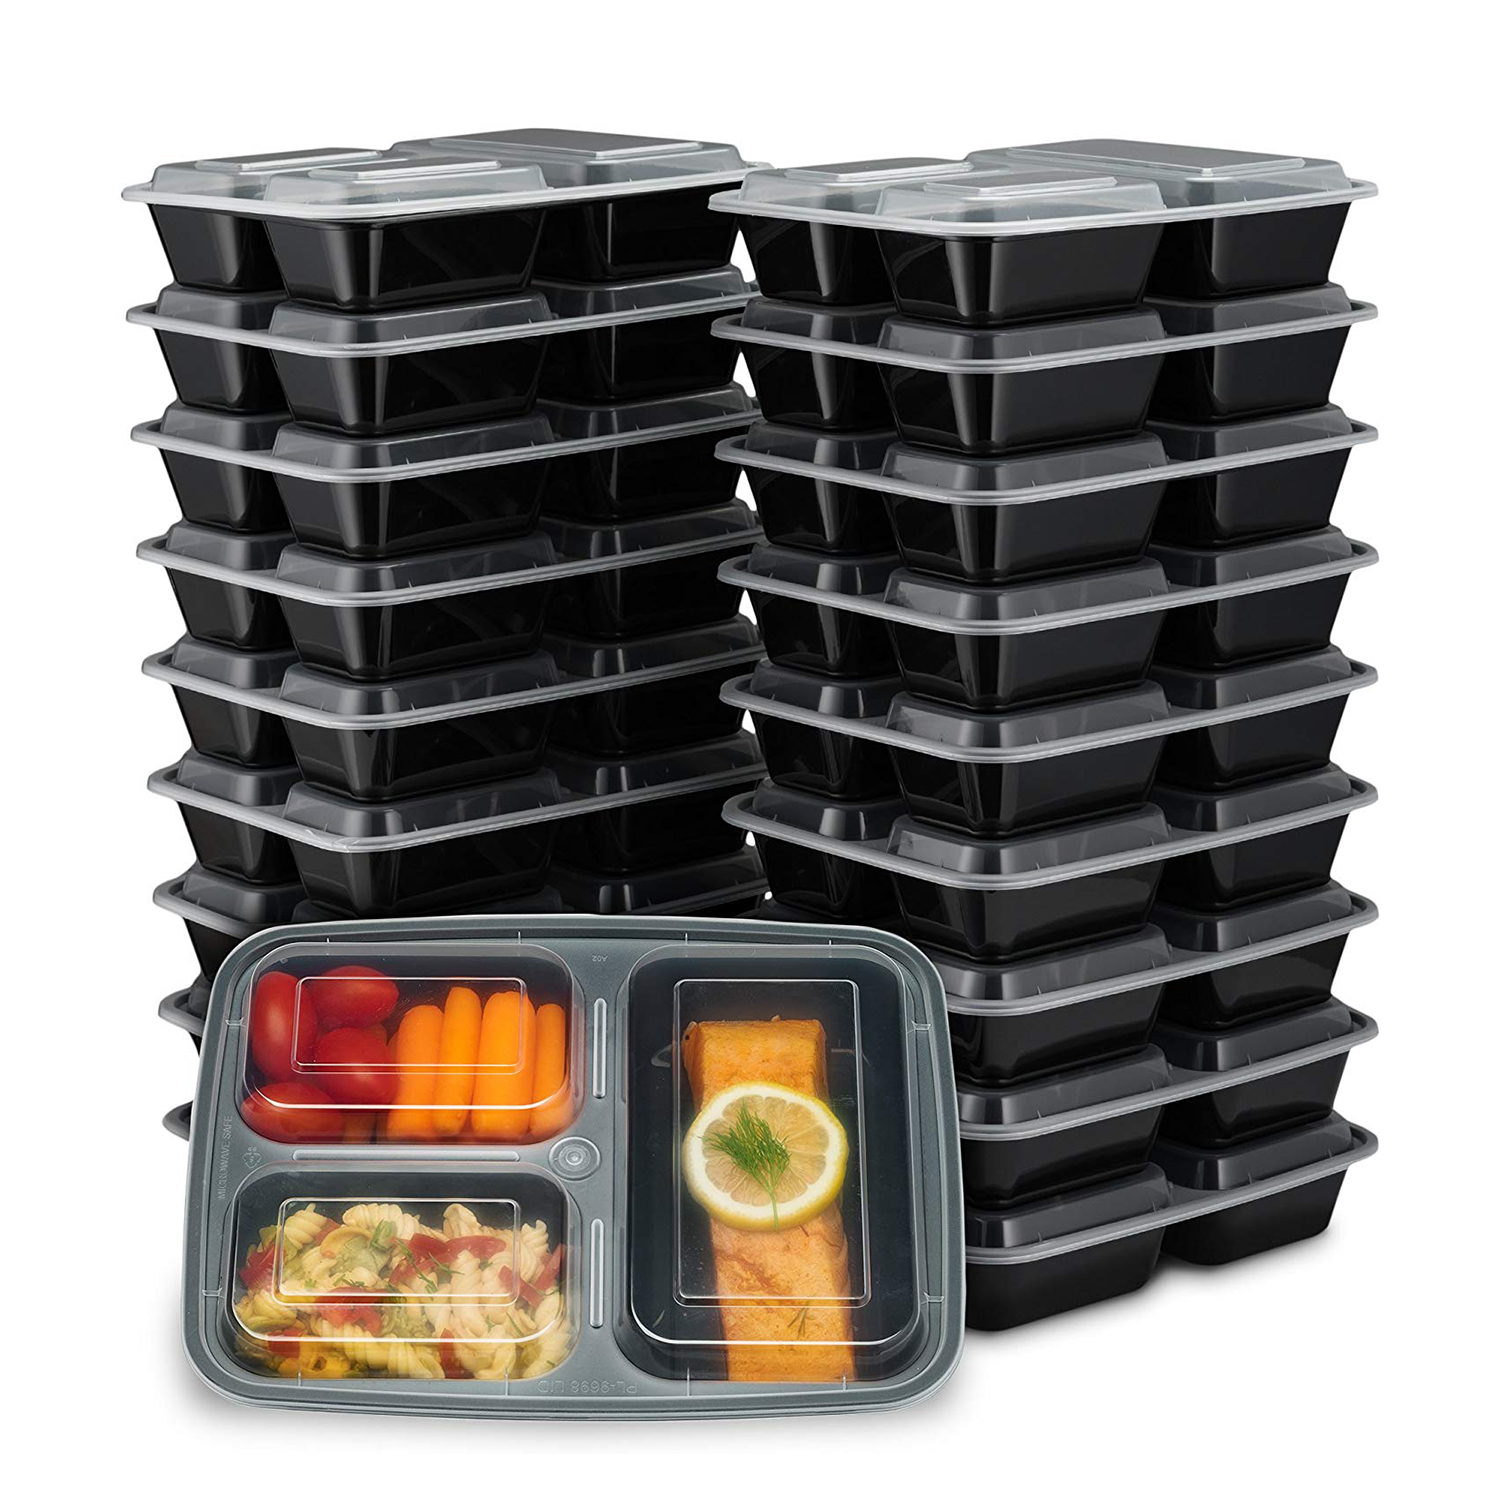PlasticBox: (173, 900, 974, 1434)
